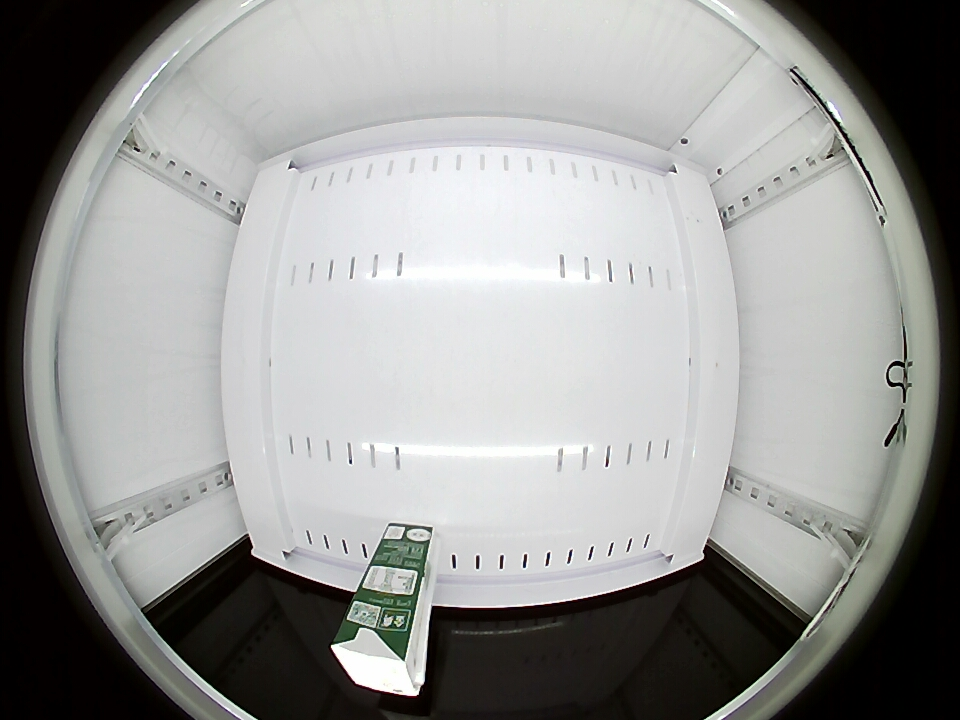jindian: (330, 616, 427, 697)
